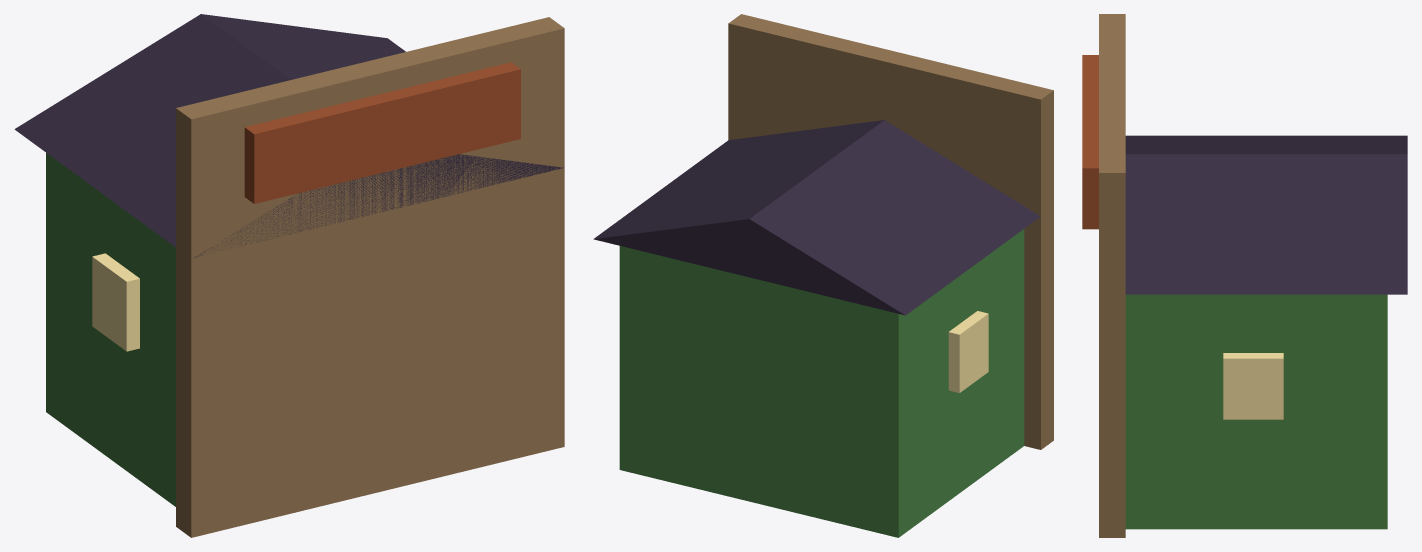
The model's file is storefront.glb.
3 renders of one model, left to right at view 1: azimuth 30°, elevation 25°; view 2: azimuth 150°, elevation 25°; view 3: azimuth 270°, elevation 25°, orthographic. The views are drawn at different scales.
Parts seen in each view (by area): view 1: wildwest-storefront; view 2: wildwest-storefront; view 3: wildwest-storefront.
Boxes of the visible parts, <box> form: wildwest-storefront: <box>14,14,564,537</box>; wildwest-storefront: <box>593,14,1053,537</box>; wildwest-storefront: <box>1082,14,1407,537</box>.
Bounding box in the file's own units: 0.56 × 0.6 × 0.485.
